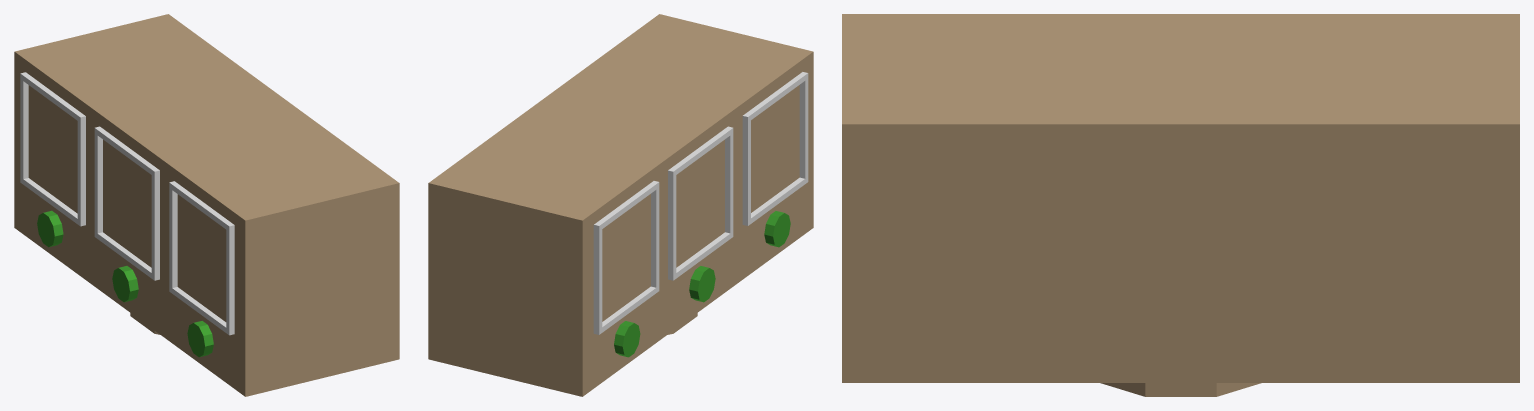
File: SELECTOR.fbx
3 renders of one model, left to right at view 1: azimuth 30°, elevation 25°; view 2: azimuth 150°, elevation 25°; view 3: azimuth 270°, elevation 25°, orthographic. The views are drawn at different scales.
Visible parts, largest first — view 1: Cube.001, Plane, Plane.001, Plane.002, Cylinder, Cylinder.001, Cylinder.002; view 2: Cube.001, Plane.002, Plane.001, Plane, Cylinder, Cylinder.001, Cylinder.002; view 3: Cube.001.
Boxes of the visible parts, x1,y1,x2,y2 form: Cube.001: (14, 14, 399, 396); Plane: (94, 126, 159, 280); Plane.001: (169, 181, 234, 335); Plane.002: (20, 72, 85, 226); Cylinder: (37, 210, 63, 247); Cylinder.001: (112, 266, 138, 302); Cylinder.002: (187, 321, 213, 357); Cube.001: (428, 14, 813, 396); Plane.002: (593, 181, 659, 334); Plane.001: (742, 72, 808, 225); Plane: (668, 126, 733, 280); Cylinder: (614, 321, 640, 357); Cylinder.001: (689, 266, 715, 302); Cylinder.002: (764, 211, 790, 247); Cube.001: (842, 14, 1519, 396).
Size of the model in its own units: 151 by 170 by 371.
